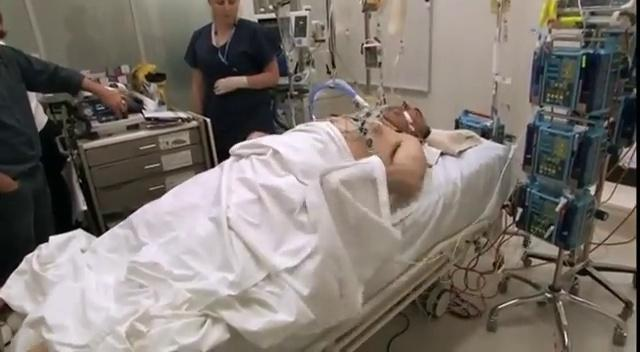others: (0, 1, 129, 286), (182, 0, 281, 165)
patient: (1, 99, 486, 351)
